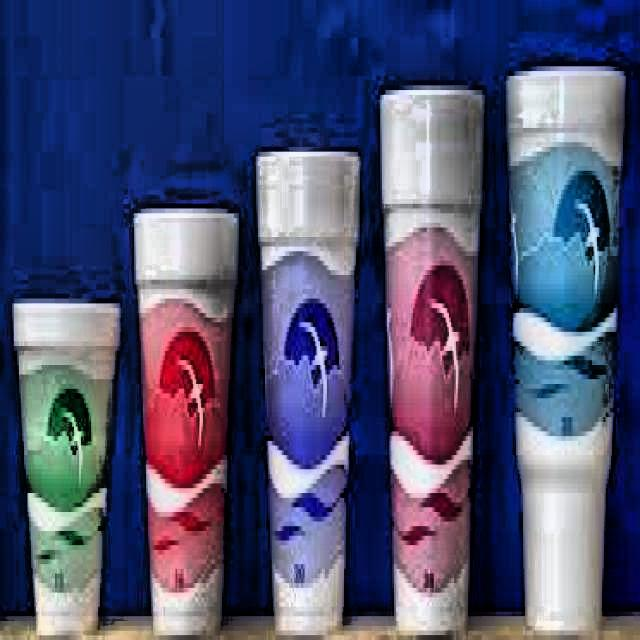Paper: (502, 62, 623, 635), (375, 81, 483, 635), (253, 147, 358, 635), (131, 204, 237, 635), (14, 304, 119, 636)
